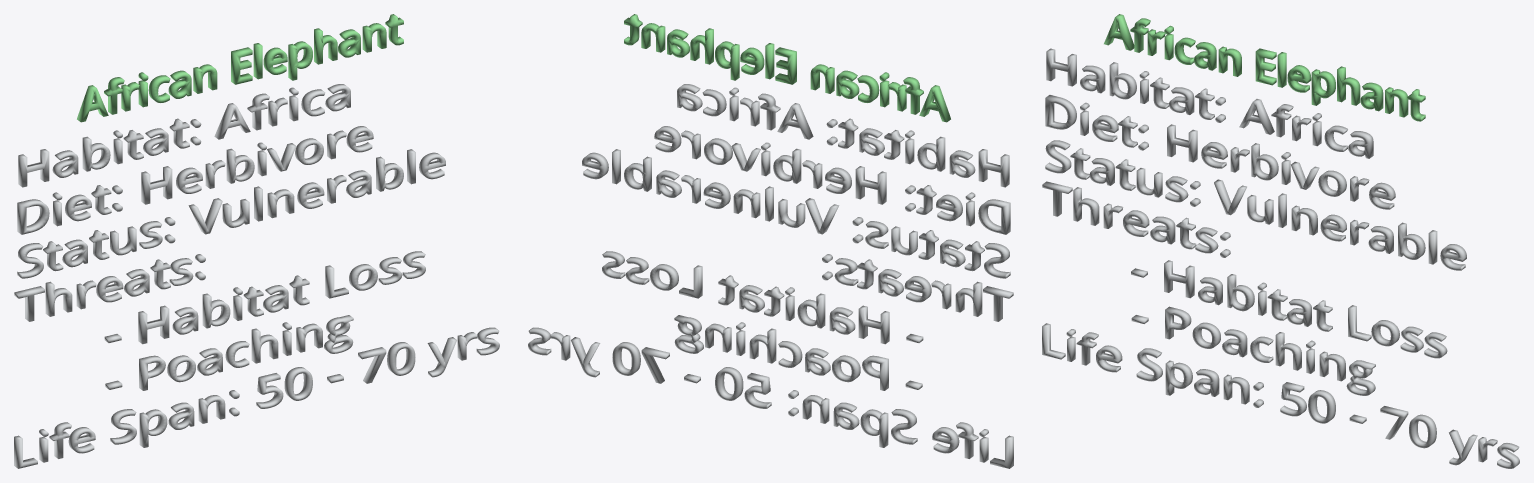
Rendered from elephanttext3d.dae.
3 renders of one model, left to right at view 1: azimuth 30°, elevation 25°; view 2: azimuth 150°, elevation 25°; view 3: azimuth 330°, elevation 25°, orthographic.
Visible parts, largest first — view 1: obj_0; view 2: obj_0; view 3: obj_0.
Boxes of the visible parts, x1=… form: obj_0: x1=14, y1=14, x2=499, y2=468; obj_0: x1=528, y1=14, x2=1013, y2=468; obj_0: x1=1042, y1=14, x2=1519, y2=468.
Size of the model in its own units: 193 by 3 by 143.
